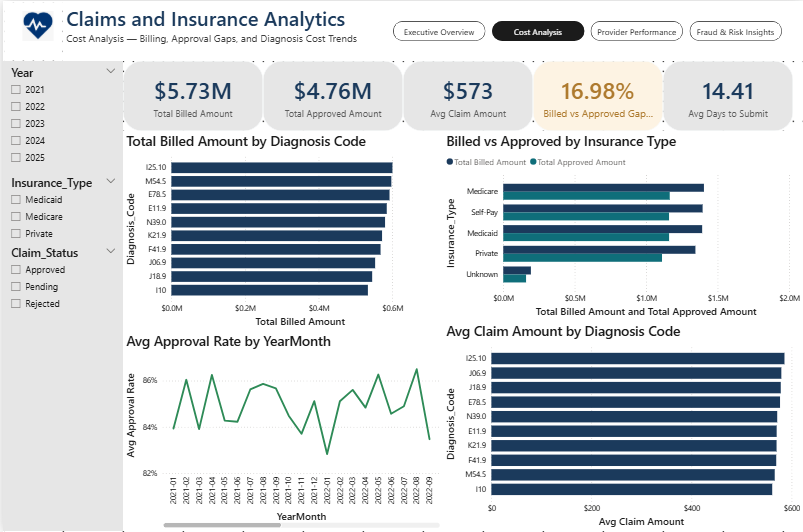

Layout of this report page (visuals, bound fields, positions):
{"tool":"powerbi","page":{"name":"Cost Analysis","canvas":[1280,850],"ordinal":1},"visuals":[{"type":"group","id":"g1","title":"Group 1","box":[16,0,1264,96],"z":0},{"type":"textbox","box":[96,0,1184,96],"z":0,"group":"g1"},{"type":"pageNavigator","box":[624,32,624,32],"z":1000,"group":"g1"},{"type":"slicer","fields":{"Values":["DateTable.Year"]},"box":[0,96,192,176],"z":1000},{"type":"image","box":[16,16,80,48],"z":2000,"group":"g1"},{"type":"slicer","fields":{"Values":["healthcare_claims_cleaned.Insurance_Type"]},"box":[0,272,192,192],"z":2000},{"type":"slicer","fields":{"Values":["healthcare_claims_cleaned.Claim_Status"]},"box":[0,384,192,464],"z":3000},{"type":"card","fields":{"Values":["healthcare_claims_cleaned.Total Billed Amount"]},"box":[192,96,224,112],"z":4000},{"type":"card","fields":{"Values":["healthcare_claims_cleaned.Total Approved Amount"]},"box":[416,96,224,112],"z":5000},{"type":"card","fields":{"Values":["healthcare_claims_cleaned.Avg Claim Amount"]},"box":[640,96,208,112],"z":6000},{"type":"card","fields":{"Values":["healthcare_claims_cleaned.Billed vs Approved Gap %"]},"box":[848,96,208,112],"z":7000},{"type":"card","fields":{"Values":["healthcare_claims_cleaned.Avg Days to Submit"]},"box":[1056,96,208,112],"z":8000},{"type":"clusteredBarChart","title":"Total Billed Amount by Diagnosis Code","fields":{"Category":["healthcare_claims_cleaned.Diagnosis_Code"],"Y":["healthcare_claims_cleaned.Total Billed Amount"]},"box":[192,208,512,320],"z":9000},{"type":"clusteredBarChart","title":"Billed vs Approved by Insurance Type","fields":{"Category":["healthcare_claims_cleaned.Insurance_Type"],"Y":["healthcare_claims_cleaned.Total Billed Amount","healthcare_claims_cleaned.Total Approved Amount"]},"box":[704,208,576,304],"z":10000},{"type":"lineChart","fields":{"Category":["DateTable.YearMonth"],"Y":["healthcare_claims_cleaned.Avg Approval Rate"]},"box":[192,528,512,320],"z":11000},{"type":"clusteredBarChart","title":"Avg Claim Amount by Diagnosis Code","fields":{"Category":["healthcare_claims_cleaned.Diagnosis_Code"],"Y":["healthcare_claims_cleaned.Avg Claim Amount"]},"box":[704,512,576,336],"z":12000}]}

Visuals, with their boxes in screenshot pixels (x1, y1, x2, y2), scaled from the page's 1280x850 canvas onto the 803x532 screenshot:
"Group 1" group: 10 0 802 60
textbox: 60 0 802 60
pageNavigator: 391 20 783 40
slicer - DateTable.Year: 0 60 120 170
image: 10 10 60 40
slicer - healthcare_claims_cleaned.Insurance_Type: 0 170 120 290
slicer - healthcare_claims_cleaned.Claim_Status: 0 240 120 531
card - healthcare_claims_cleaned.Total Billed Amount: 120 60 261 130
card - healthcare_claims_cleaned.Total Approved Amount: 261 60 402 130
card - healthcare_claims_cleaned.Avg Claim Amount: 402 60 532 130
card - healthcare_claims_cleaned.Billed vs Approved Gap %: 532 60 662 130
card - healthcare_claims_cleaned.Avg Days to Submit: 662 60 793 130
"Total Billed Amount by Diagnosis Code" clusteredBarChart: 120 130 442 330
"Billed vs Approved by Insurance Type" clusteredBarChart: 442 130 802 320
lineChart - DateTable.YearMonth x healthcare_claims_cleaned.Avg Approval Rate: 120 330 442 531
"Avg Claim Amount by Diagnosis Code" clusteredBarChart: 442 320 802 531
